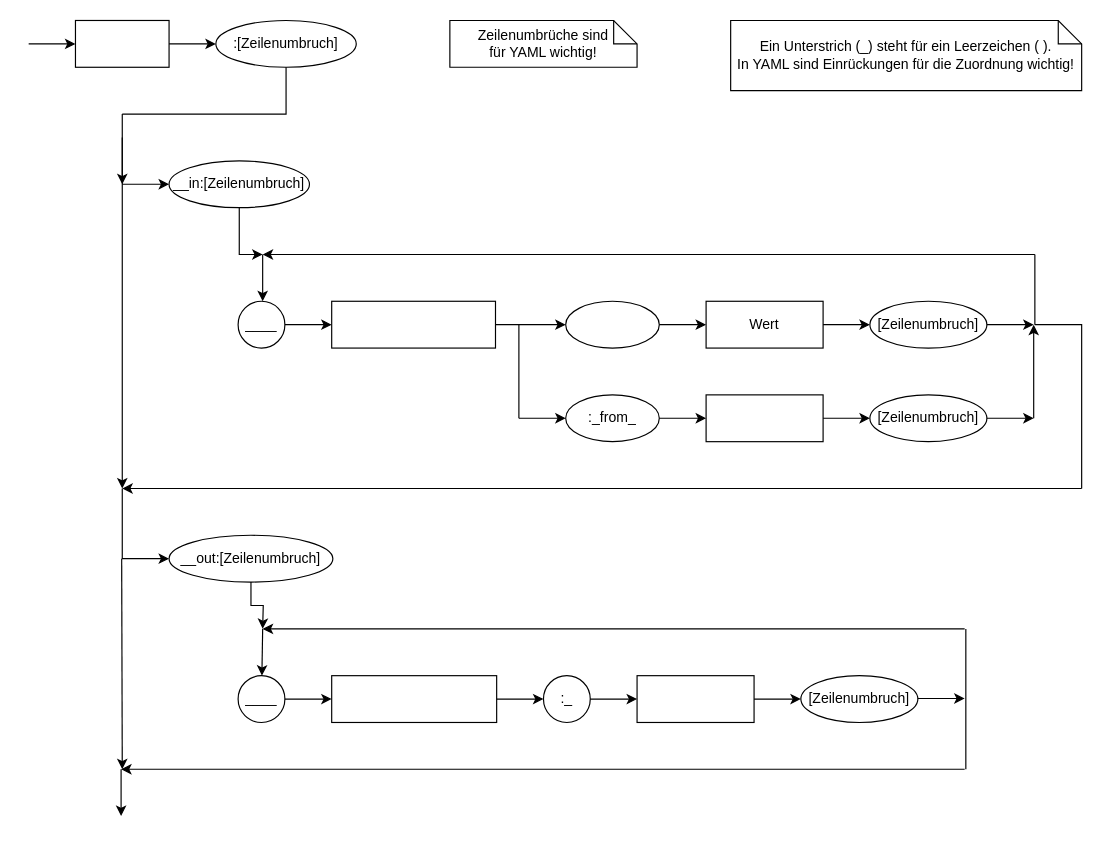
The diagram is 1112 pixels wide and 846 high, and some of its shapes have lost their labels. Each missing label, with the box of its shape:
:_direct_: (565, 300, 659, 348)
Ausgabeparametername: (331, 675, 497, 722)
Eingabeparametern ame: (331, 300, 495, 348)
Schrittname: (74, 19, 169, 67)
Variablenn ame: (705, 394, 823, 442)
Variablenname: (636, 675, 754, 722)
